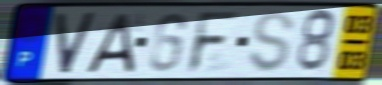6: (147, 12, 189, 74)
8: (294, 7, 338, 76)
A: (83, 11, 137, 75)
F: (184, 10, 243, 76)
S: (246, 10, 296, 75)
V: (54, 10, 99, 76)
